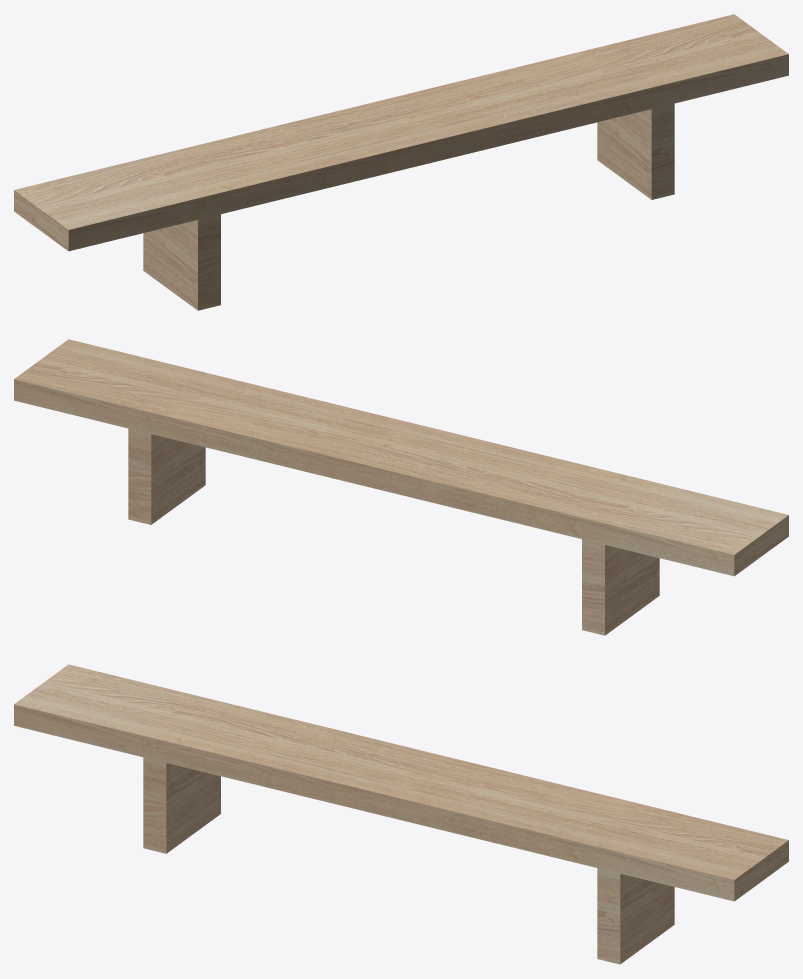
Rendered from Bench.fbx.
3 views of the same model, one above another, from view 1: azimuth 30°, elevation 25°; view 2: azimuth 150°, elevation 25°; view 3: azimuth 330°, elevation 25° (orthographic).
Parts seen in each view (by area): view 1: Bench; view 2: Bench; view 3: Bench.
Part boxes in pixels (left/top/right/bottom): Bench: left=14, top=14, right=788, bottom=310; Bench: left=14, top=339, right=788, bottom=635; Bench: left=14, top=664, right=788, bottom=964.
Size of the model in its own units: 391 by 58.23 by 51.27.
